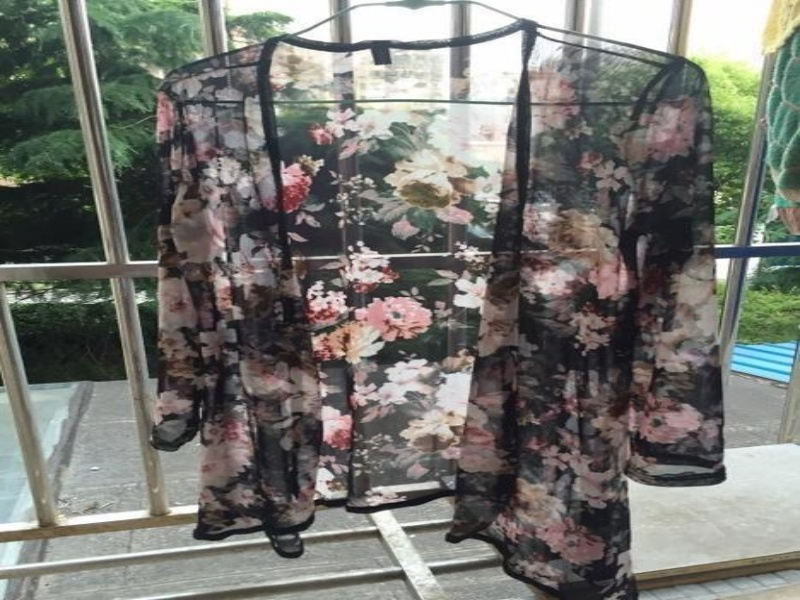long_sleeved_outwear: (133, 14, 742, 599)
